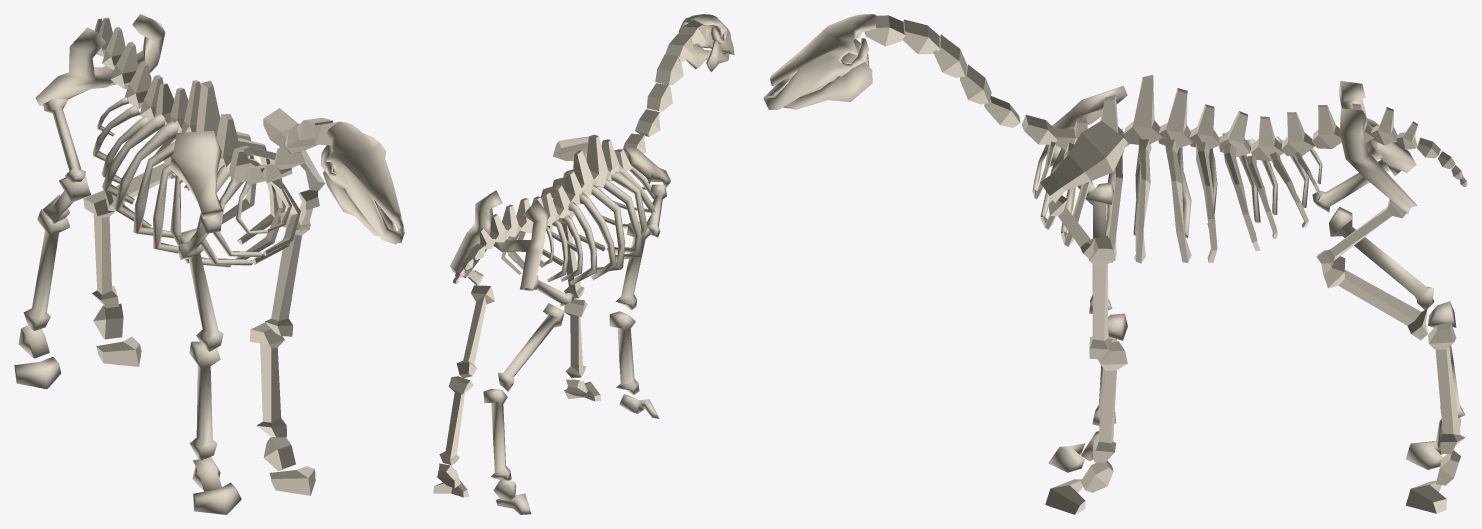
The model's file is Horse.glb.
3 views of the same model, side by side, from view 1: azimuth 30°, elevation 25°; view 2: azimuth 150°, elevation 25°; view 3: azimuth 270°, elevation 25° (orthographic). The views are drawn at different scales.
Parts seen in each view (by area): view 1: node-0; view 2: node-0; view 3: node-0.
Boxes of the visible parts, x1,y1,x2,y2 form: node-0: [14, 14, 404, 514]; node-0: [433, 14, 734, 514]; node-0: [763, 14, 1467, 514].
Bounding box in the file's own units: 221 × 679 × 937.
